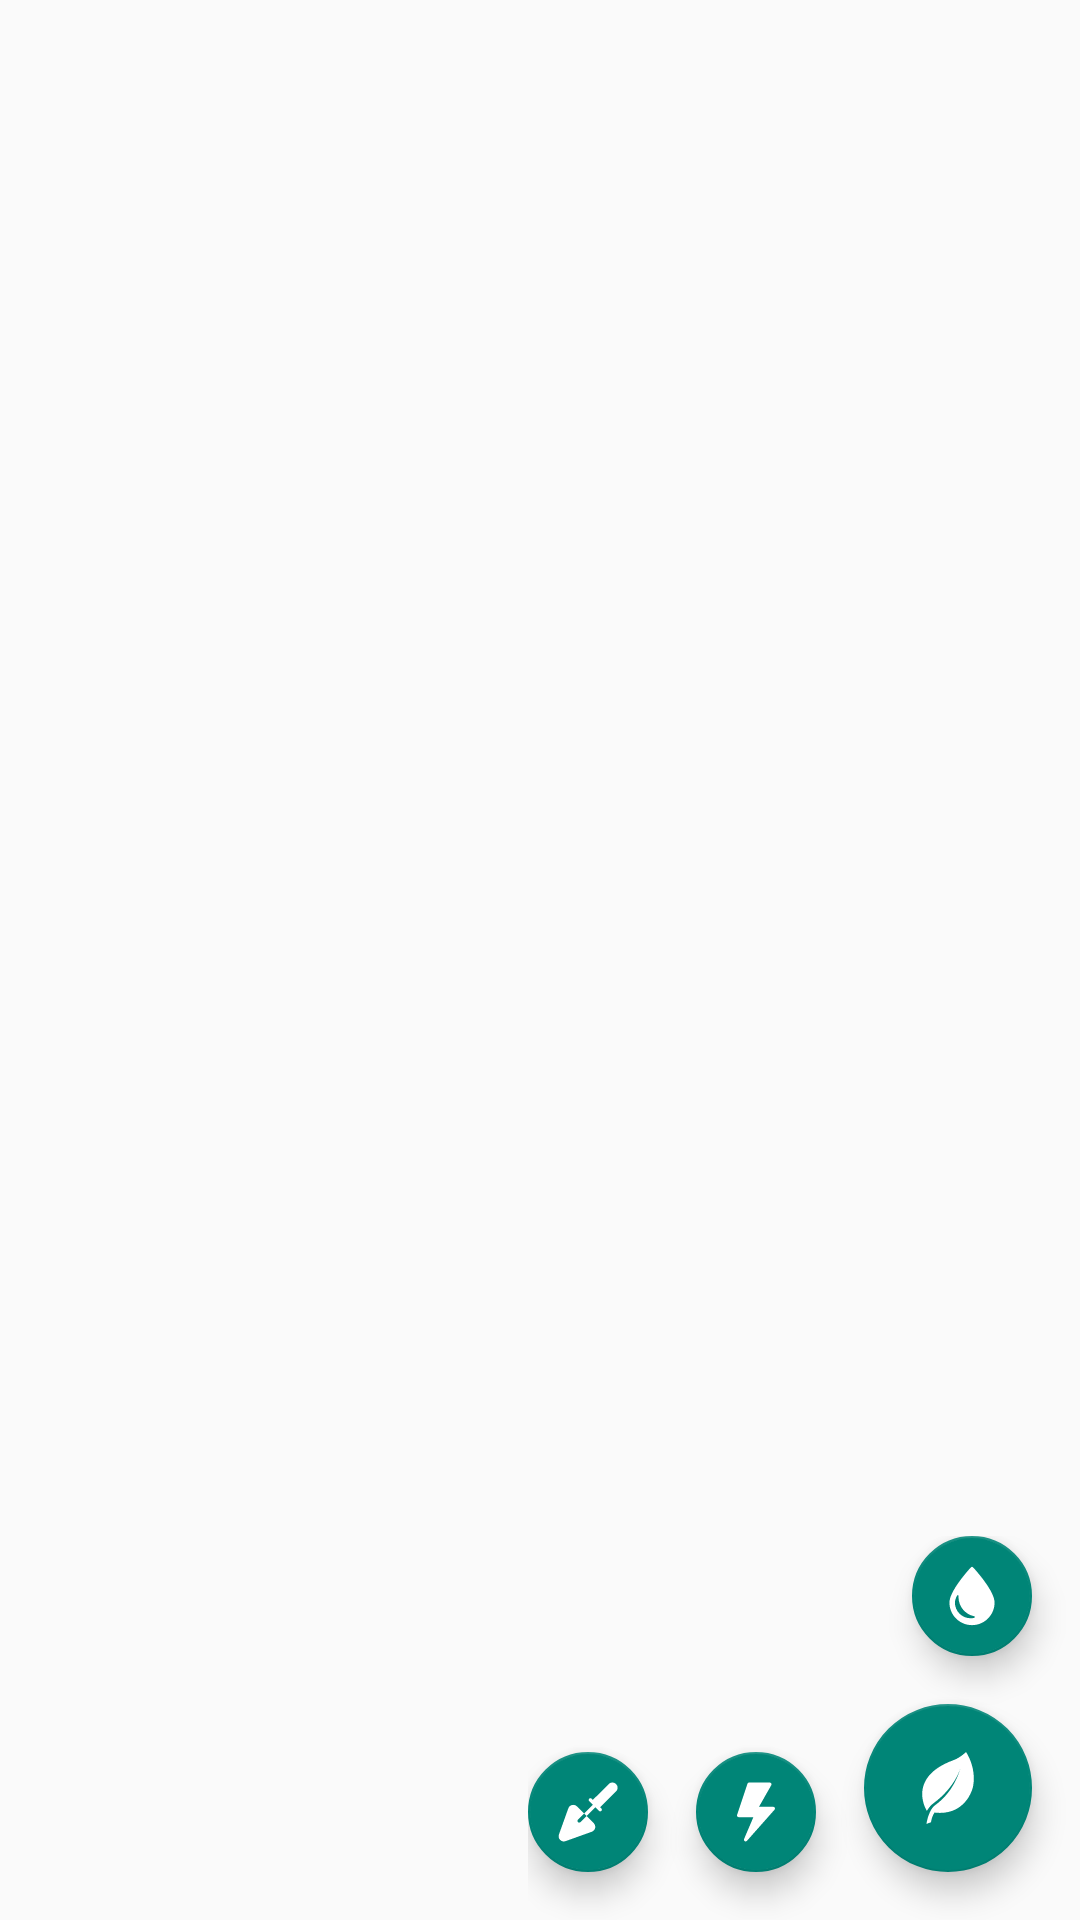

Icon click points for this 1080*1920 phone screenshot, format [x,y]:
drop: [972,1596]
flash: [756,1812]
leaf: [948,1788]
shovel: [588,1812]
